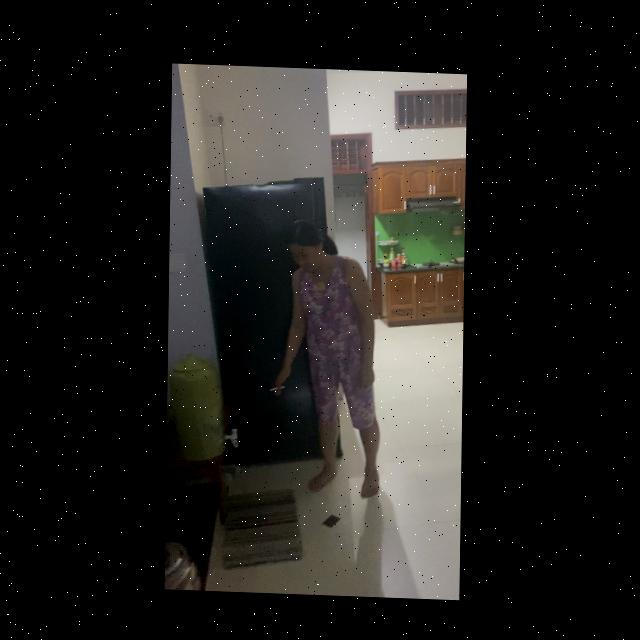cigarette: (270, 383, 286, 389)
